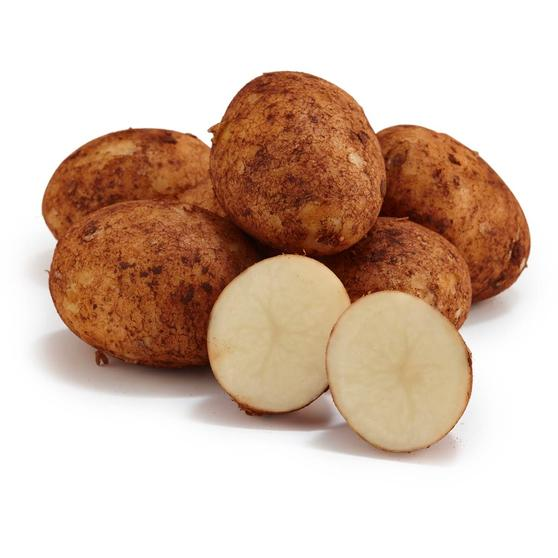potato: (47, 202, 256, 371), (211, 68, 386, 257), (378, 124, 535, 294)
